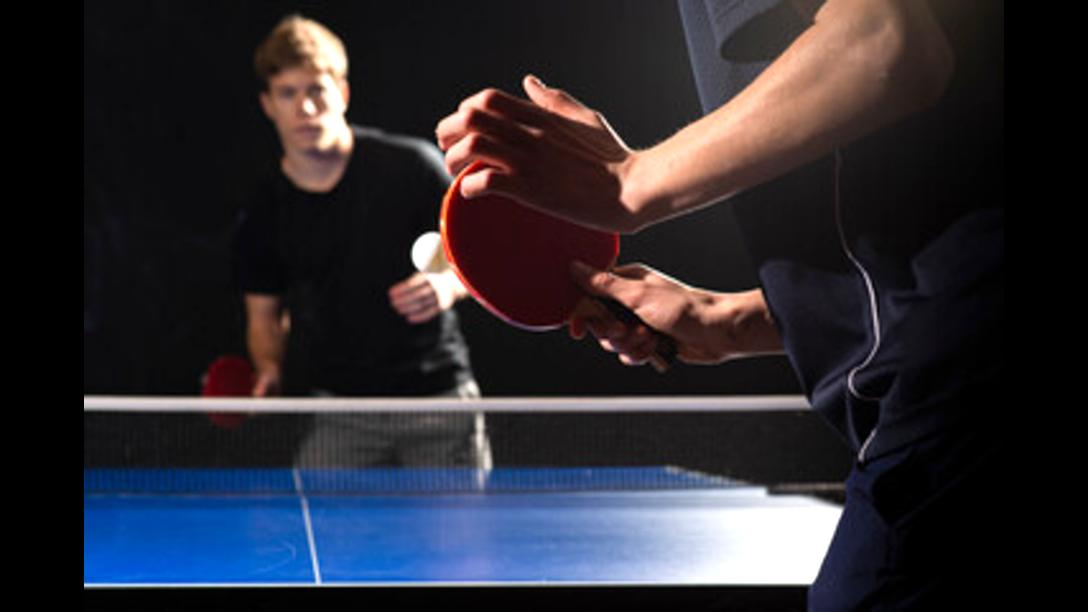Table-Tennis-Ball: (413, 232, 451, 272)
